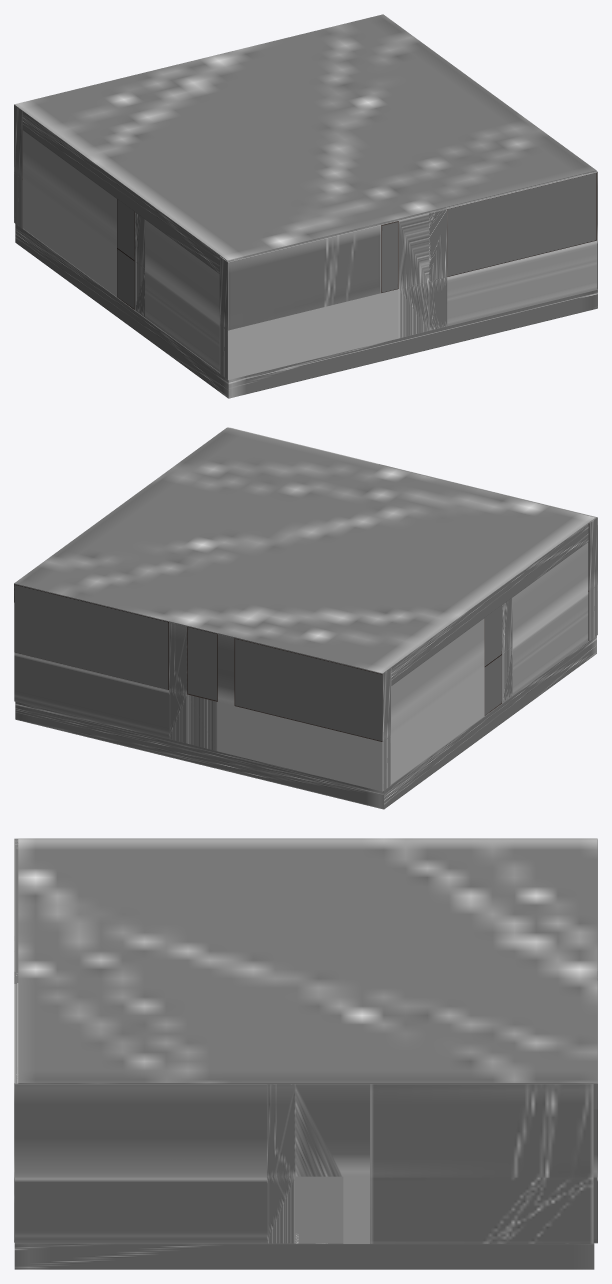
Rendered from BigArea DeadEnd.fbx.
The picture shows the model from 3 angles, top to bottom: view 1: azimuth 30°, elevation 25°; view 2: azimuth 150°, elevation 25°; view 3: azimuth 270°, elevation 25°; orthographic projection. The views are drawn at different scales.
Parts seen in each view (by area): view 1: pCube9; view 2: pCube9; view 3: pCube9.
Boxes of the visible parts, box(x1,y1,x2,y2) form: pCube9: box(14, 14, 597, 398); pCube9: box(14, 427, 597, 809); pCube9: box(14, 838, 597, 1269).
Bounding box in the file's own units: 20.05 × 7.11 × 20.16.
Materials: 1 (1 with a texture image).
